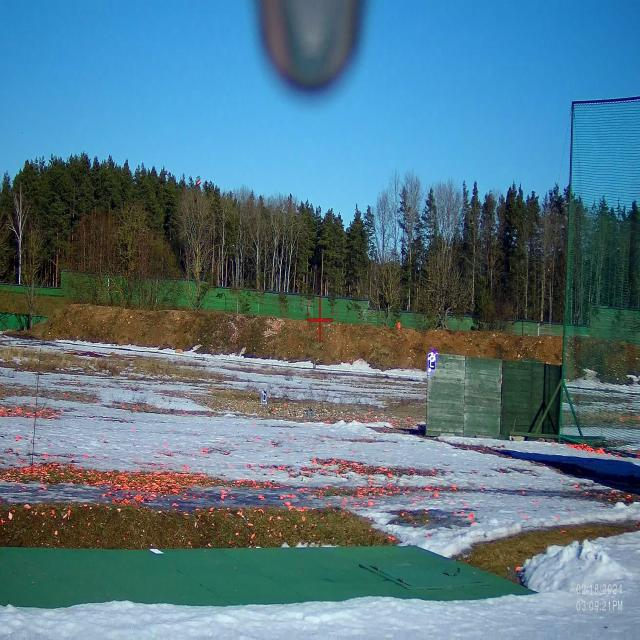entire: (191, 172, 207, 191)
